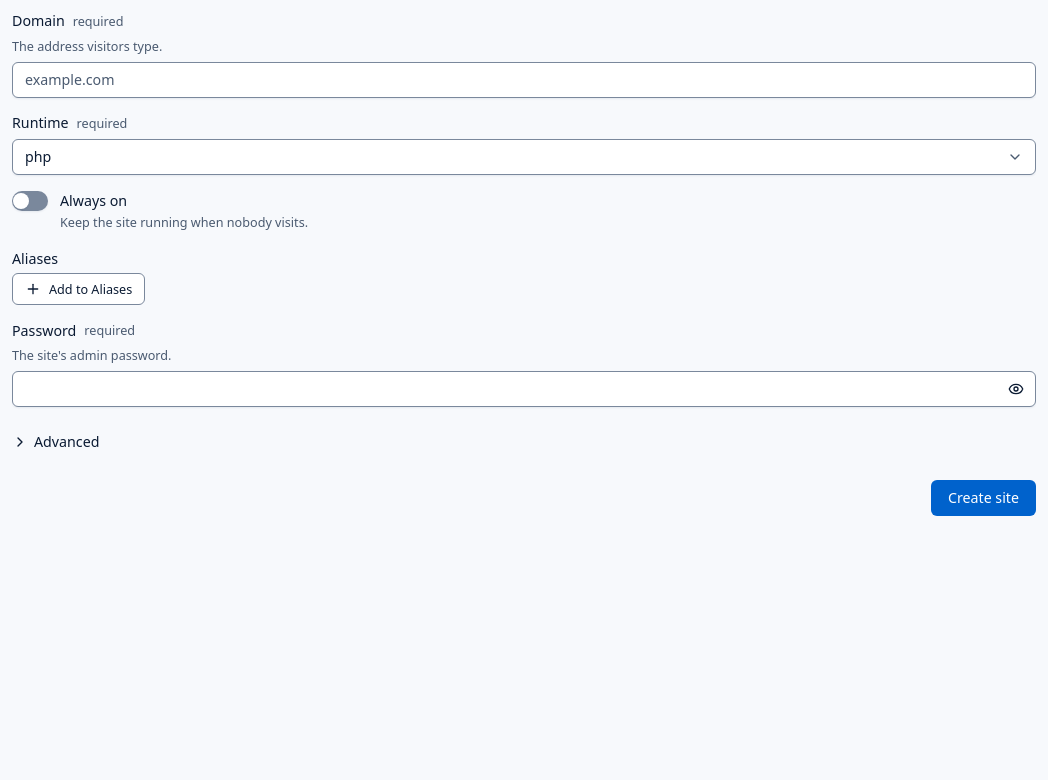
it: the schema form › names a list's items with a message that says where the number goes
Click the button "Add to Aliases" at (79, 289), box x1=12 y1=273 x2=145 y2=305
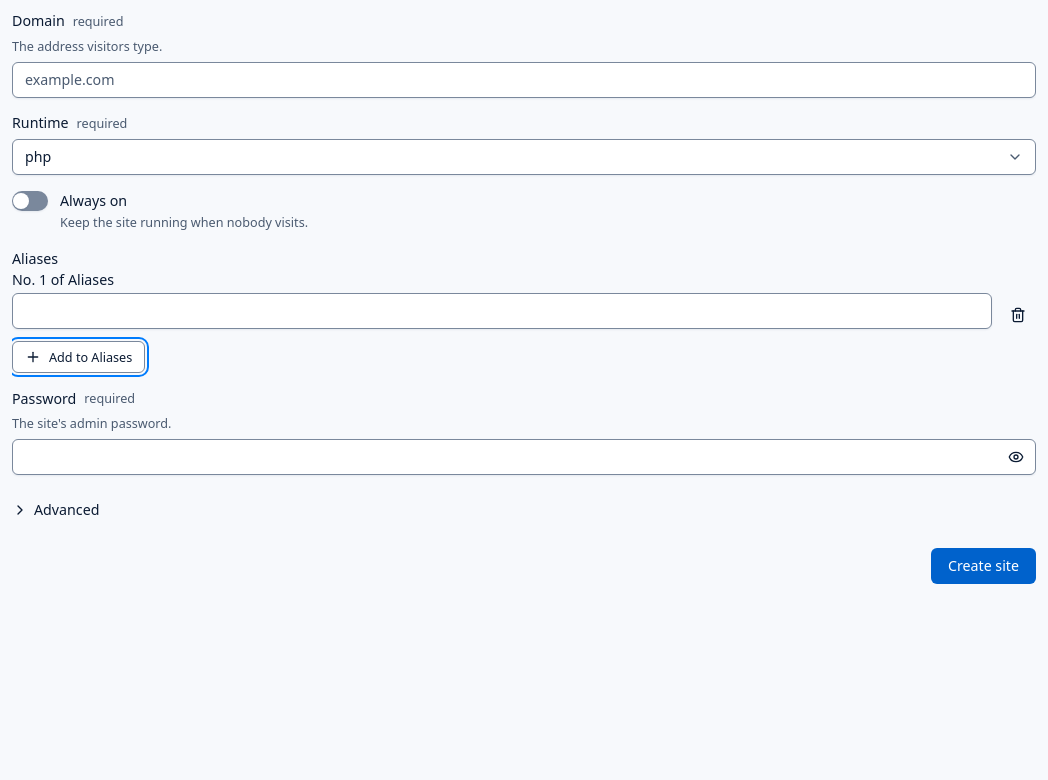
Click the button "Add to Aliases" at (79, 357), box x1=12 y1=341 x2=145 y2=373
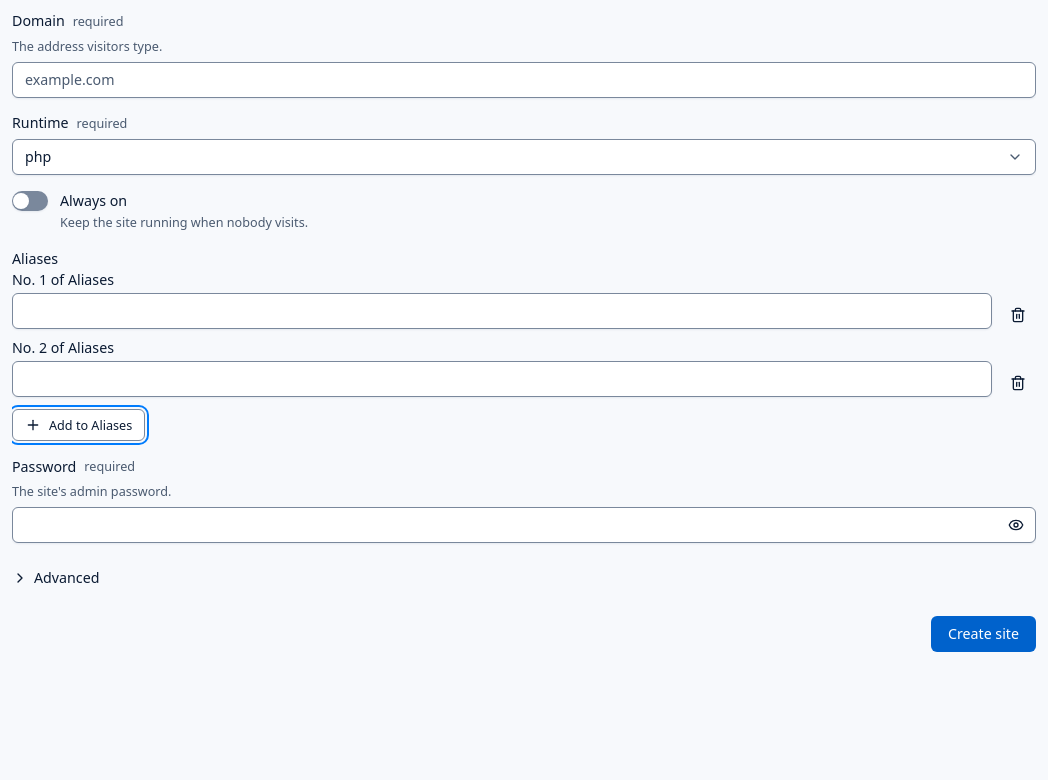
Expected: the button named "Remove No. 1 of Aliases" is shown, x1=1000 y1=297 x2=1036 y2=333
Expected: the field labelled "No. 2 of Aliases" is shown, x1=12 y1=361 x2=992 y2=397
